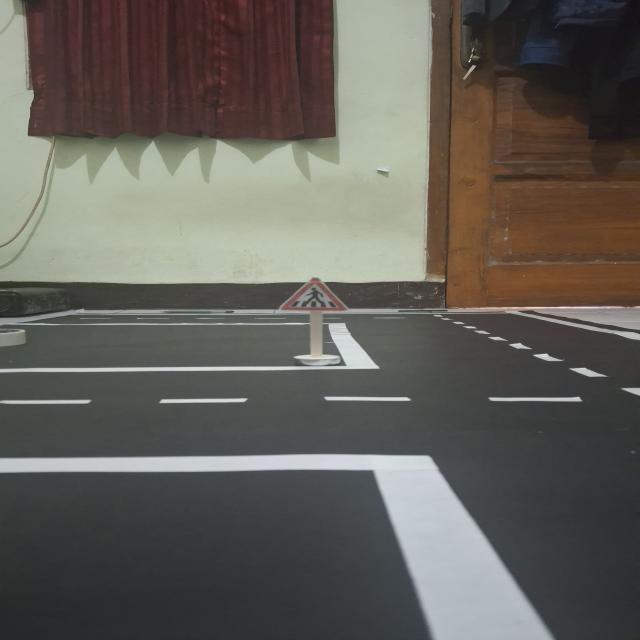Rambu Penyebrangan: (278, 277, 350, 311)
